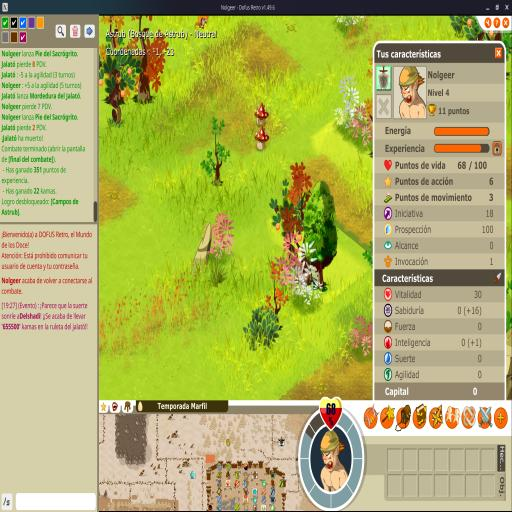Enemigos: (254, 125, 270, 151), (254, 102, 269, 127), (195, 16, 210, 30)
